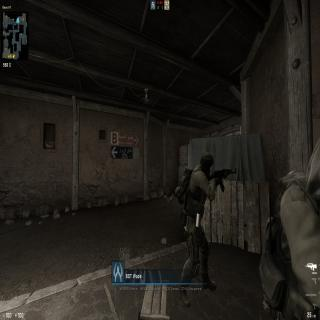CT-Head: (200, 149, 214, 177)
